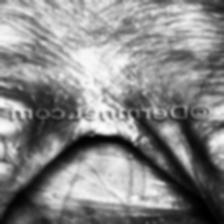Toxin: (70, 122, 142, 147)
